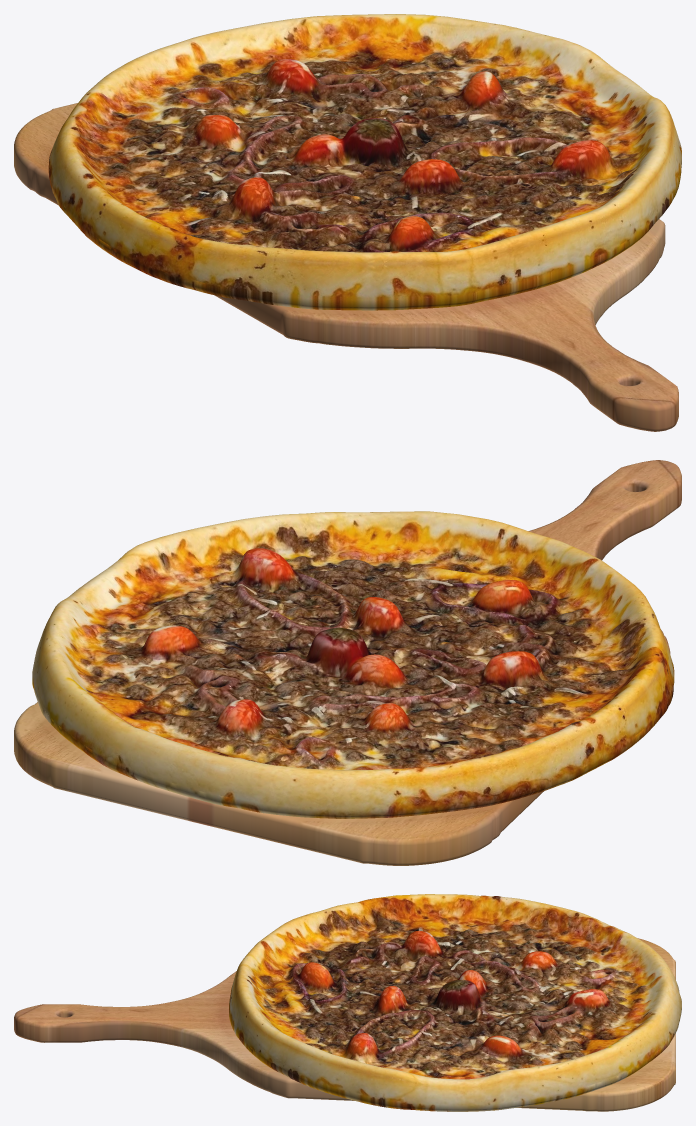
Rendered from pizza-burgerys.glb.
3 views of the same model, one above another, from view 1: azimuth 30°, elevation 25°; view 2: azimuth 150°, elevation 25°; view 3: azimuth 270°, elevation 25° (orthographic). The views are drawn at different scales.
Visible parts, largest first — view 1: pizza-burgerys, peel.005; view 2: pizza-burgerys, peel.005; view 3: pizza-burgerys, peel.005.
Part boxes in pixels (bbox=[...]): pizza-burgerys: bbox=[48, 14, 681, 310]; peel.005: bbox=[14, 103, 678, 431]; pizza-burgerys: bbox=[32, 511, 674, 818]; peel.005: bbox=[14, 460, 681, 865]; pizza-burgerys: bbox=[229, 894, 681, 1111]; peel.005: bbox=[14, 938, 675, 1111].
Size of the model in its own units: 0.3015 by 0.0415 by 0.4404.
2 materials, 2 textured.
